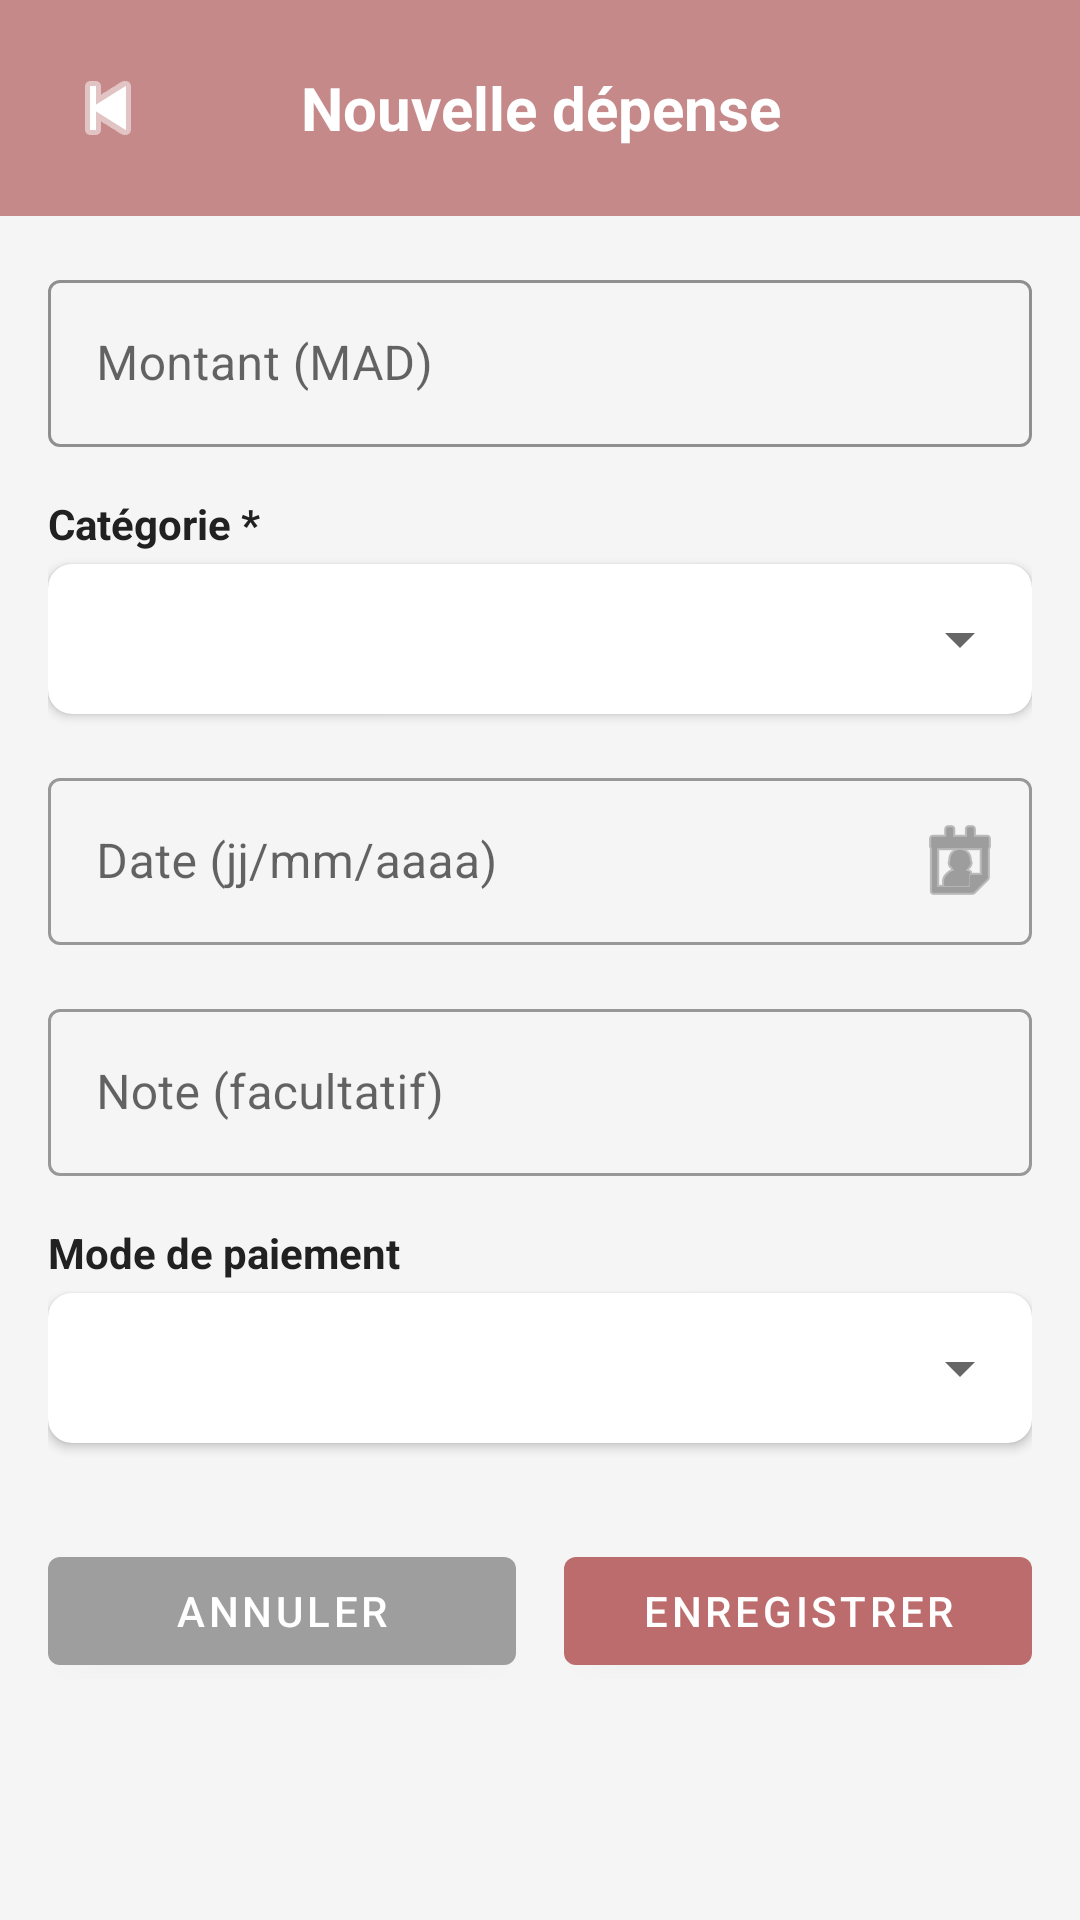

Icon bounding boxes for this 1080 x 1920 phone screenshot, format (x1, y1, x2, y2):
previous: (85, 81, 131, 135)
